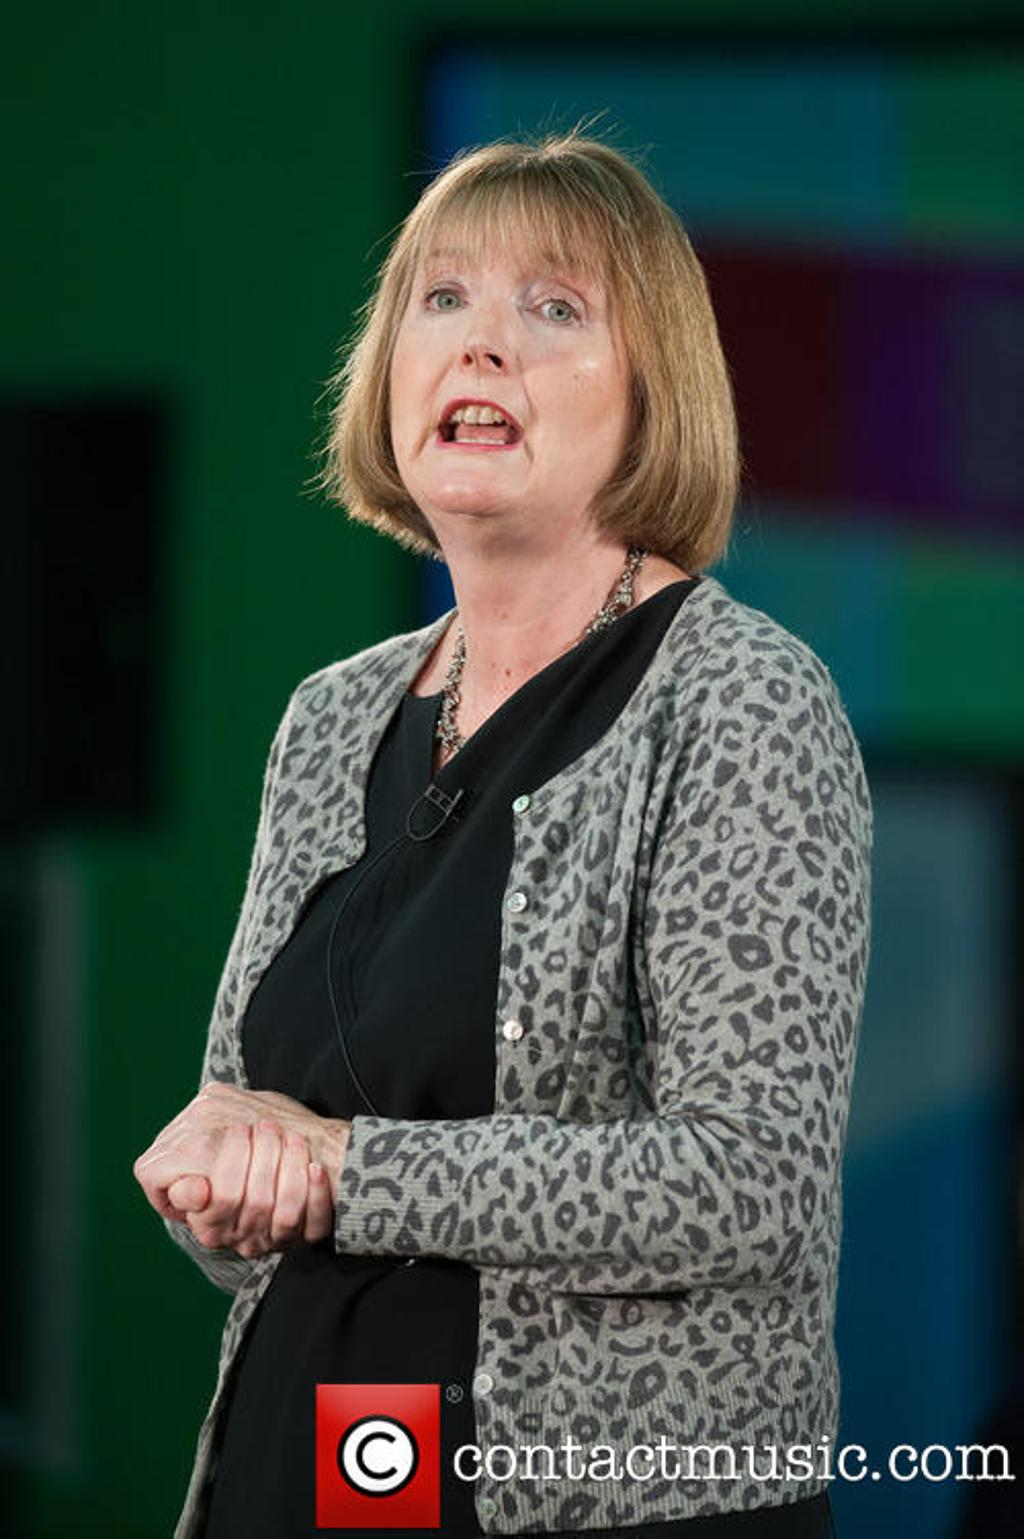face: (390, 189, 627, 507)
